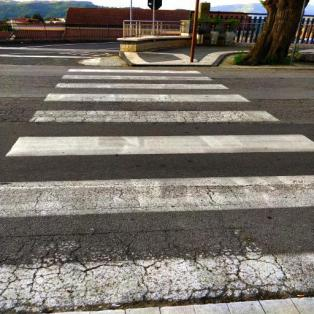Paso de Cebra: (17, 90, 285, 129), (60, 66, 217, 84)
